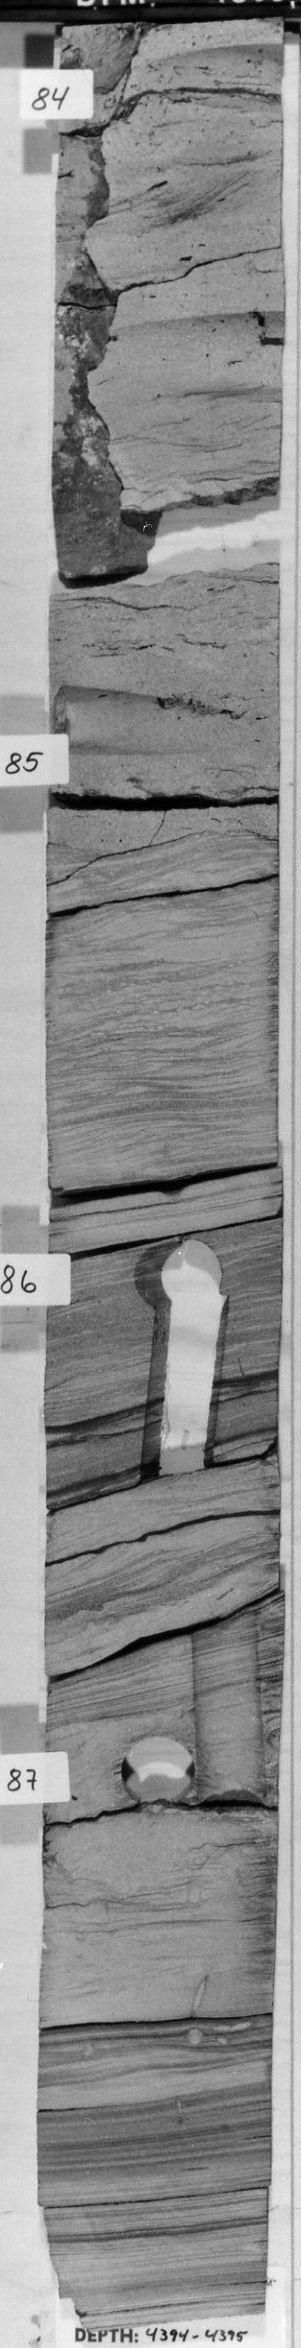hplug: (51, 678, 249, 764), (133, 1232, 234, 1304), (118, 1730, 196, 1810)
vplug: (190, 1617, 274, 1812), (141, 1304, 231, 1476)
